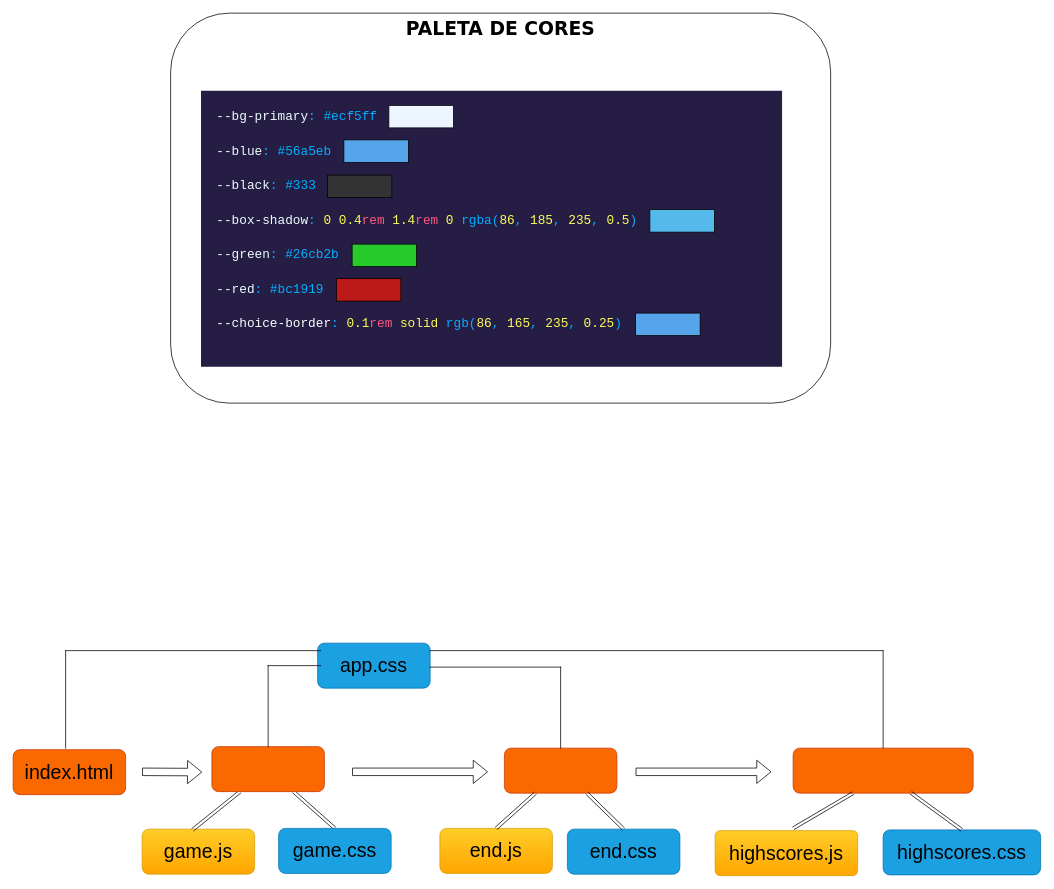
Image size: 1054x889. Some labels were removed from this diagram. The centre of each missing label's shape, as x and y in pixels:
end.html: point 560,770
game.html: point 267,769
highscores.html: point 882,770
